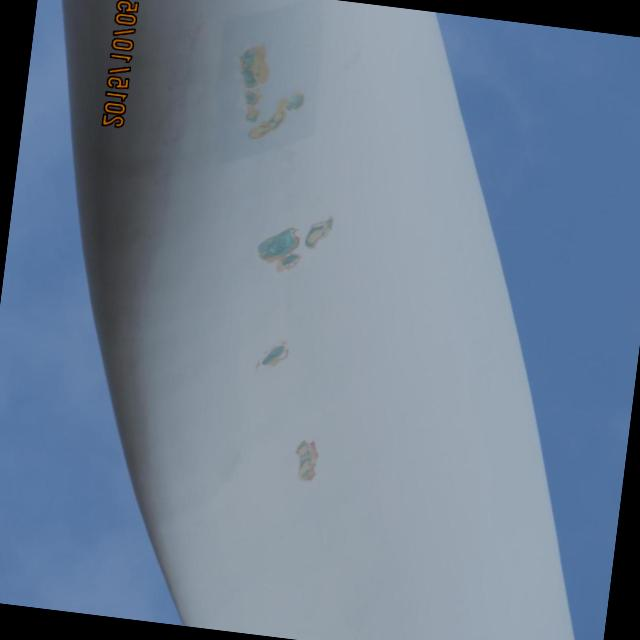surface_peeling: (230, 41, 310, 152), (250, 208, 337, 282), (286, 432, 326, 488), (250, 337, 295, 372)
